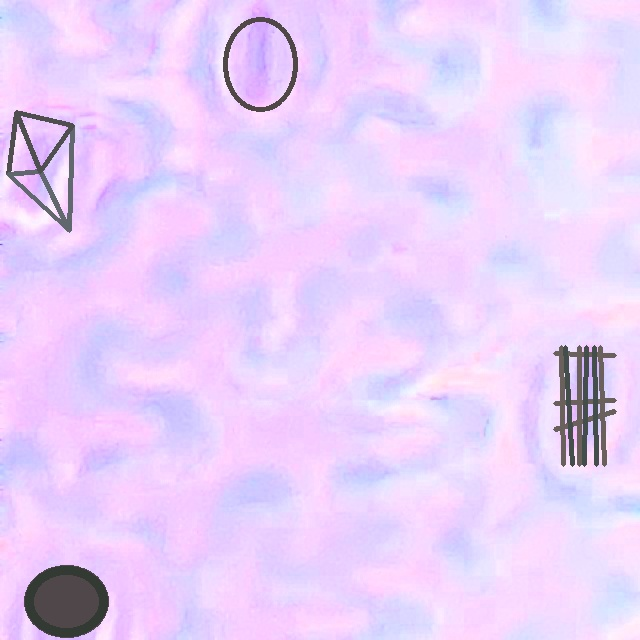open: (7, 110, 73, 232), (553, 345, 616, 466), (223, 16, 298, 113), (24, 565, 109, 636)
